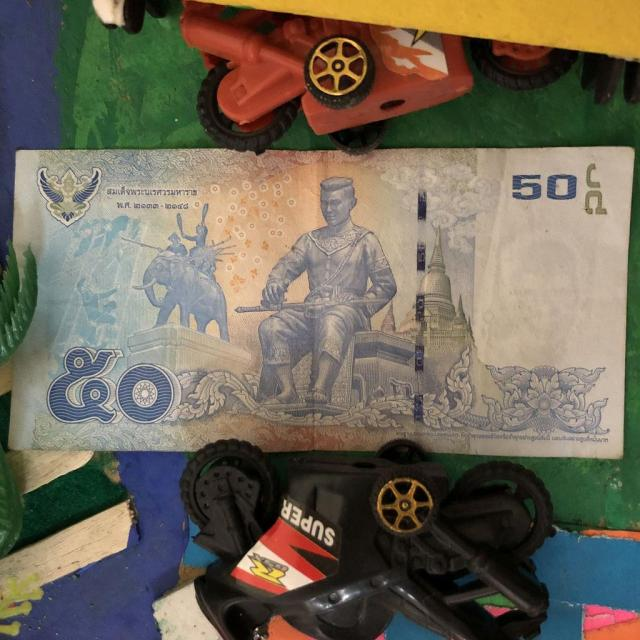THAI50: (6, 148, 636, 462)
